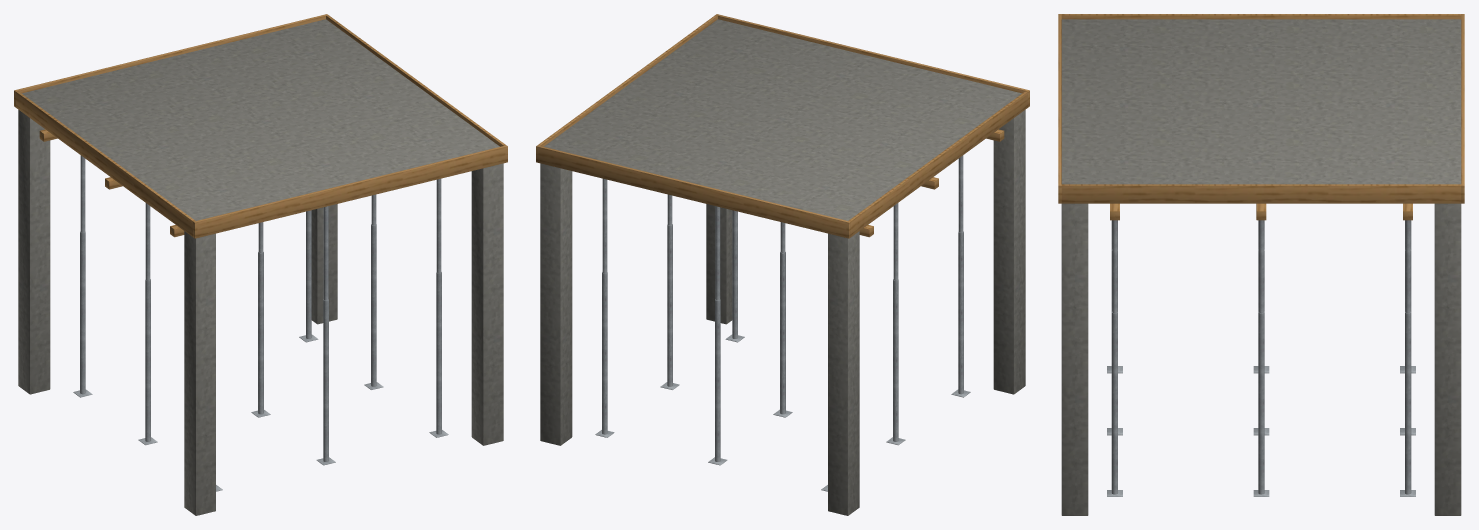
File: KIT-EST-04_lod1.glb
3 views of the same model, side by side, from view 1: azimuth 30°, elevation 25°; view 2: azimuth 150°, elevation 25°; view 3: azimuth 270°, elevation 25° (orthographic). The views are drawn at different scales.
Parts seen in each view (by area): view 1: KIT-EST-04_capa, KIT-EST-04_pilar.002, KIT-EST-04_pilar, KIT-EST-04_pilar.001, KIT-EST-04_borda, KIT-EST-04_borda.002, KIT-EST-04_pilar.003, KIT-EST-04_borda.001, KIT-EST-04_borda.003, KIT-EST-04_et1.001, KIT-EST-04_et1.002, KIT-EST-04_et1.003 (+6 smaller); view 2: KIT-EST-04_capa, KIT-EST-04_pilar.003, KIT-EST-04_pilar.001, KIT-EST-04_pilar, KIT-EST-04_borda.001, KIT-EST-04_borda.002, KIT-EST-04_pilar.002, KIT-EST-04_borda, KIT-EST-04_borda.003, KIT-EST-04_et1, KIT-EST-04_et1.001, KIT-EST-04_et1.004 (+6 smaller); view 3: KIT-EST-04_capa, KIT-EST-04_pilar.002, KIT-EST-04_pilar.003, KIT-EST-04_borda.003, KIT-EST-04_borda.002, KIT-EST-04_et1.007, KIT-EST-04_et1.006, KIT-EST-04_et1.008, KIT-EST-04_borda, KIT-EST-04_borda.001, KIT-EST-04_et2.006, KIT-EST-04_et2.008 (+1 smaller).
Boxes of the visible parts, <box> form: KIT-EST-04_capa: <box>22,19,499,220</box>; KIT-EST-04_pilar.002: <box>471,163,503,445</box>; KIT-EST-04_pilar: <box>184,231,215,515</box>; KIT-EST-04_pilar.001: <box>18,110,50,394</box>; KIT-EST-04_borda: <box>193,145,507,238</box>; KIT-EST-04_borda.002: <box>15,91,195,236</box>; KIT-EST-04_pilar.003: <box>311,204,337,324</box>; KIT-EST-04_borda.001: <box>14,14,327,107</box>; KIT-EST-04_borda.003: <box>326,15,505,146</box>; KIT-EST-04_et1.001: <box>145,279,150,441</box>; KIT-EST-04_et1.002: <box>80,231,85,394</box>; KIT-EST-04_et1.003: <box>323,299,328,461</box>; KIT-EST-04_capa: <box>544,19,1021,220</box>; KIT-EST-04_pilar.003: <box>540,163,572,445</box>; KIT-EST-04_pilar.001: <box>828,231,859,515</box>; KIT-EST-04_pilar: <box>993,110,1025,394</box>; KIT-EST-04_borda.001: <box>536,145,850,238</box>; KIT-EST-04_borda.002: <box>848,91,1028,236</box>; KIT-EST-04_pilar.002: <box>706,204,732,324</box>; KIT-EST-04_borda: <box>716,14,1029,107</box>; KIT-EST-04_borda.003: <box>538,15,717,146</box>; KIT-EST-04_et1: <box>958,231,963,394</box>; KIT-EST-04_et1.001: <box>893,279,898,441</box>; KIT-EST-04_et1.004: <box>780,252,785,414</box>; KIT-EST-04_capa: <box>1061,19,1461,184</box>; KIT-EST-04_pilar.002: <box>1061,203,1088,515</box>; KIT-EST-04_pilar.003: <box>1434,203,1461,515</box>; KIT-EST-04_borda.003: <box>1061,184,1461,203</box>; KIT-EST-04_borda.002: <box>1061,14,1461,19</box>; KIT-EST-04_et1.007: <box>1258,311,1264,494</box>; KIT-EST-04_et1.006: <box>1111,311,1117,494</box>; KIT-EST-04_et1.008: <box>1405,311,1411,494</box>; KIT-EST-04_borda: <box>1058,14,1061,203</box>; KIT-EST-04_borda.001: <box>1461,14,1464,203</box>; KIT-EST-04_et2.006: <box>1112,220,1117,312</box>; KIT-EST-04_et2.008: <box>1405,220,1410,312</box>.
Size of the model in its own units: 3.05 by 2.75 by 3.05.
Materials: 5 (5 with a texture image).
